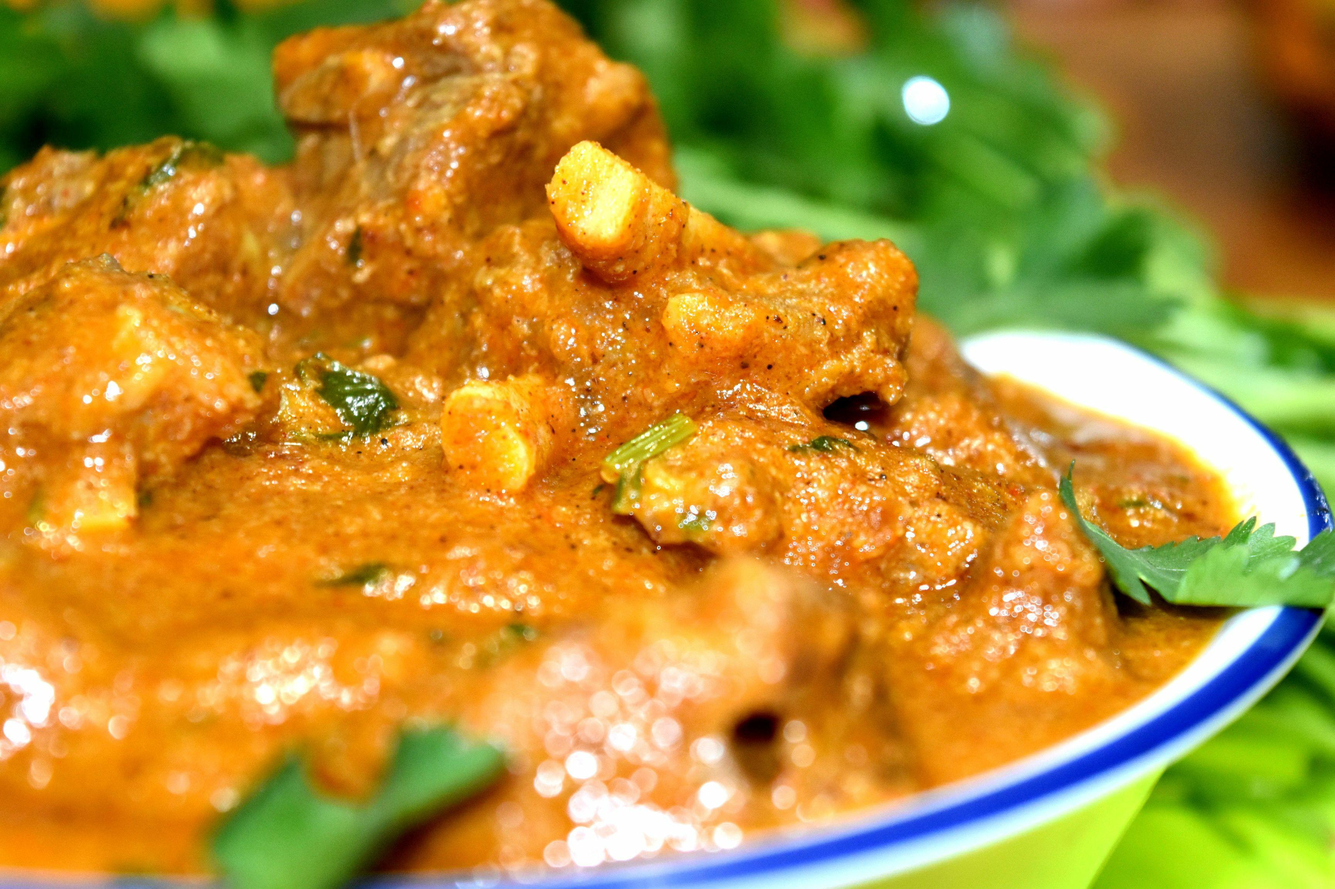MuttonCurry: (0, 0, 1230, 889)
